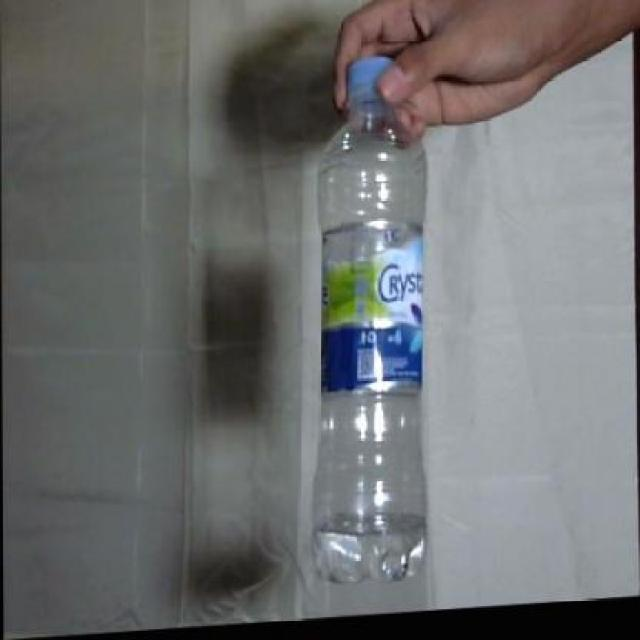Plastic: (306, 57, 434, 591)
